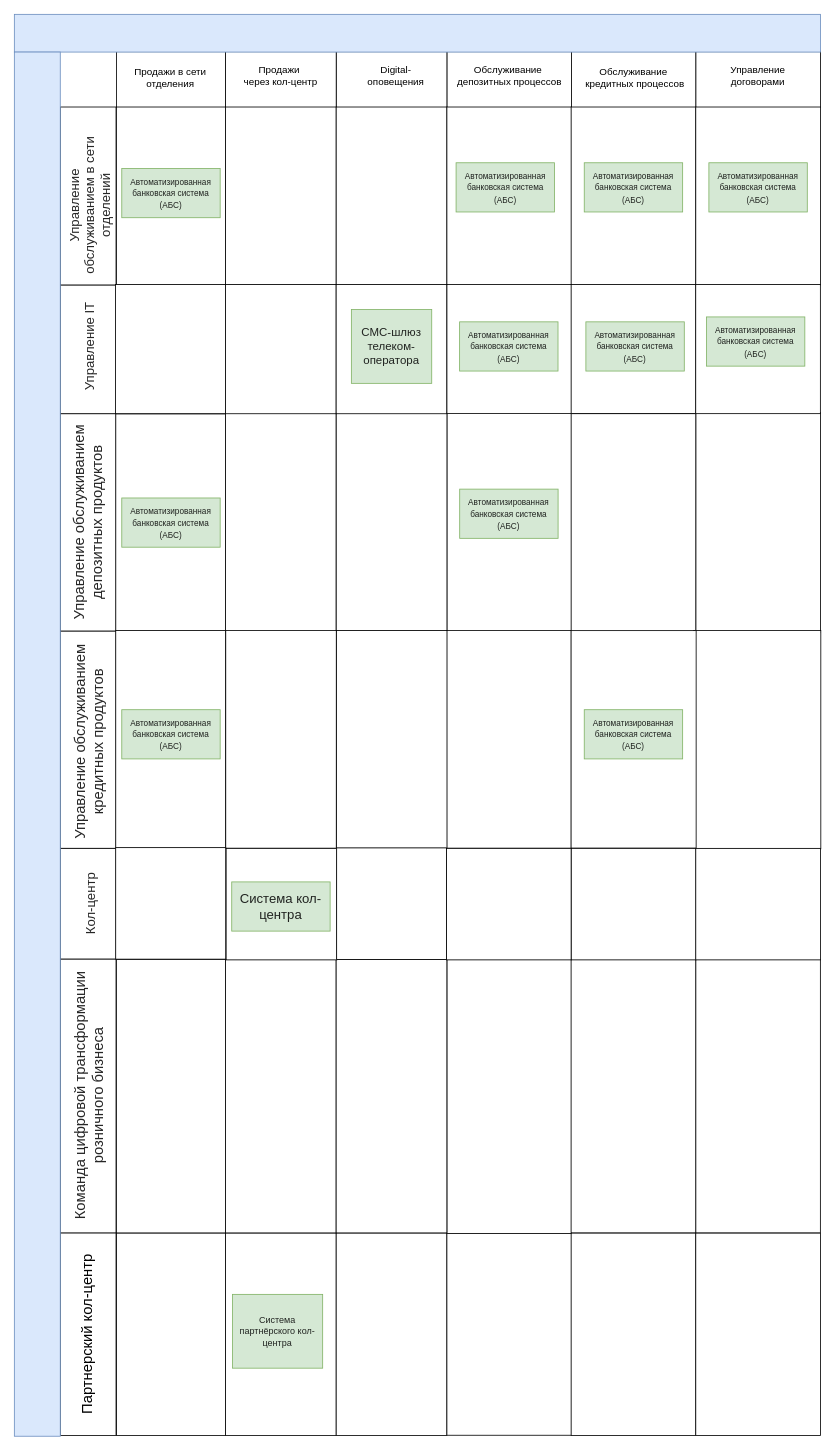
The diagram is 836 pixels wide and 1451 high, and some of its shapes have lost their labels. Here are the shapes that lost their labels. From the top down, the centre of each, then its label:
[417,33]: Бизнес возможности
[37,743]: Управления организационной структуры
